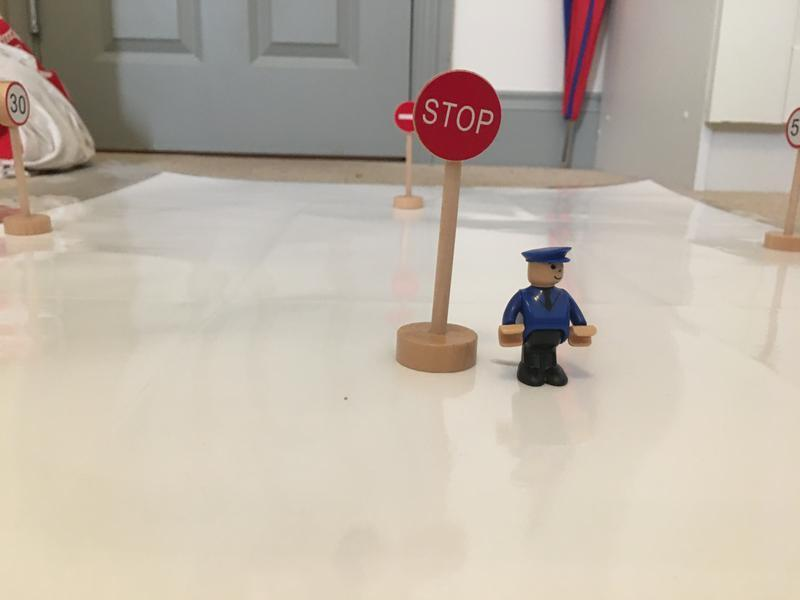Traffic_Sign_30: (5, 80, 30, 125)
Traffic_Sign_No_Entry: (393, 100, 412, 131)
Traffic_Sign_Stop: (416, 70, 501, 161)
person: (493, 245, 597, 391)
